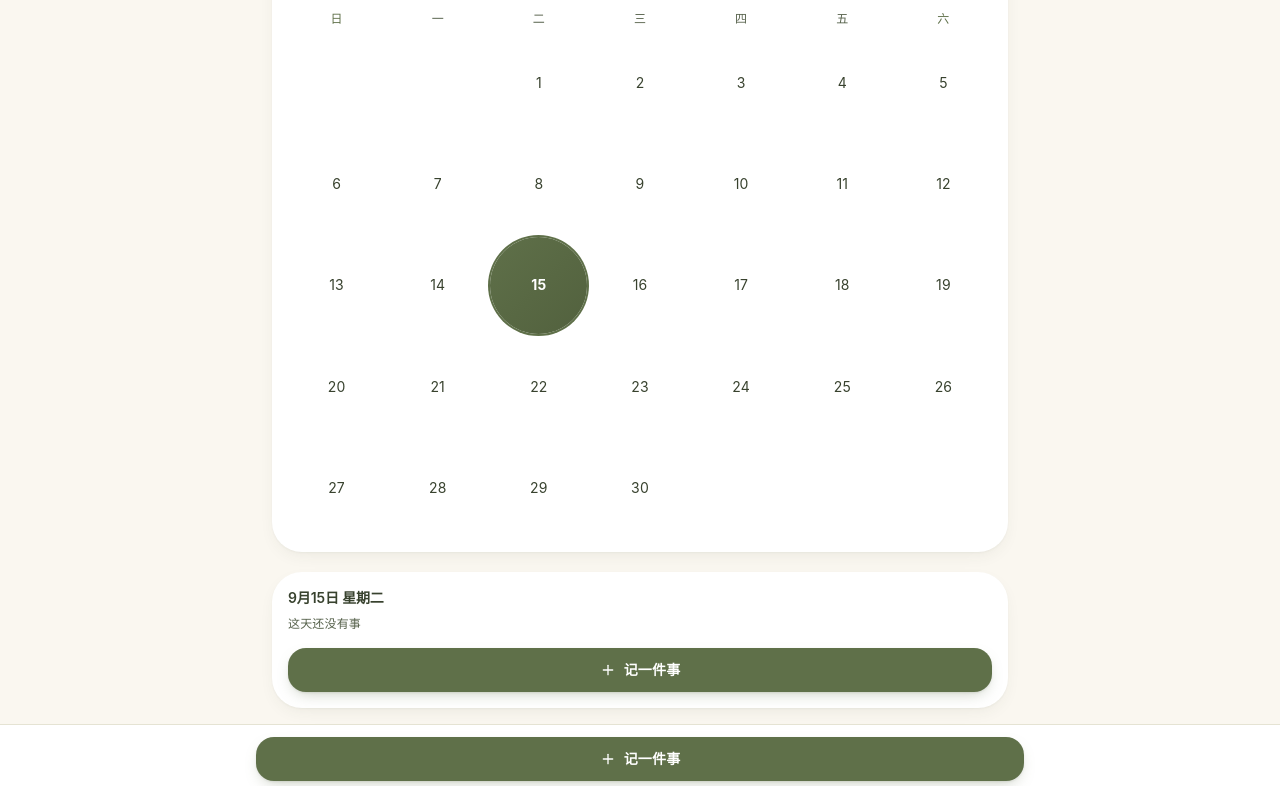
it: 这一天的面板 › 点某天后，「在这天记经期」和「记一件事」都带着这一天
The image size is (1280, 786).
(page scrolled)
Click the button named "9月20日": point(337, 387) [288, 338, 385, 435]
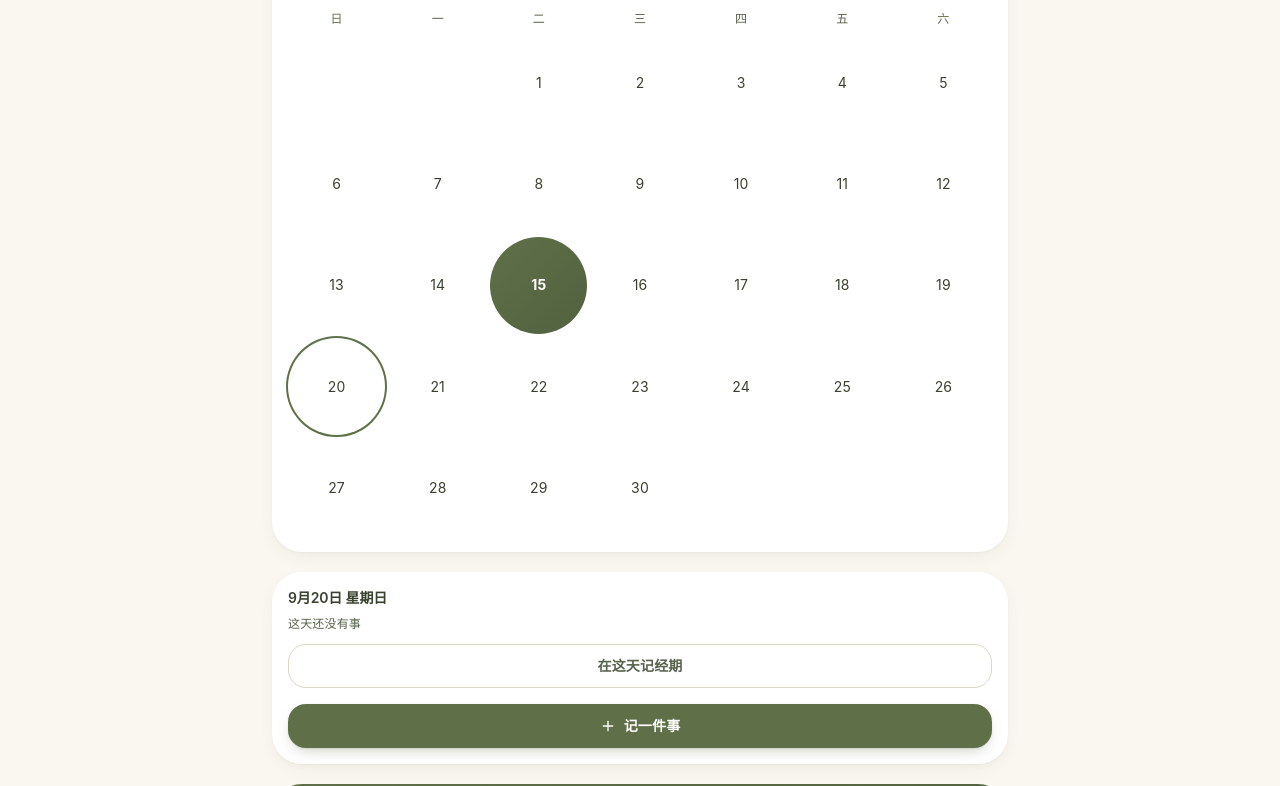
Click the button "在这天记经期": point(640, 666) [288, 644, 992, 688]
(page scrolled)
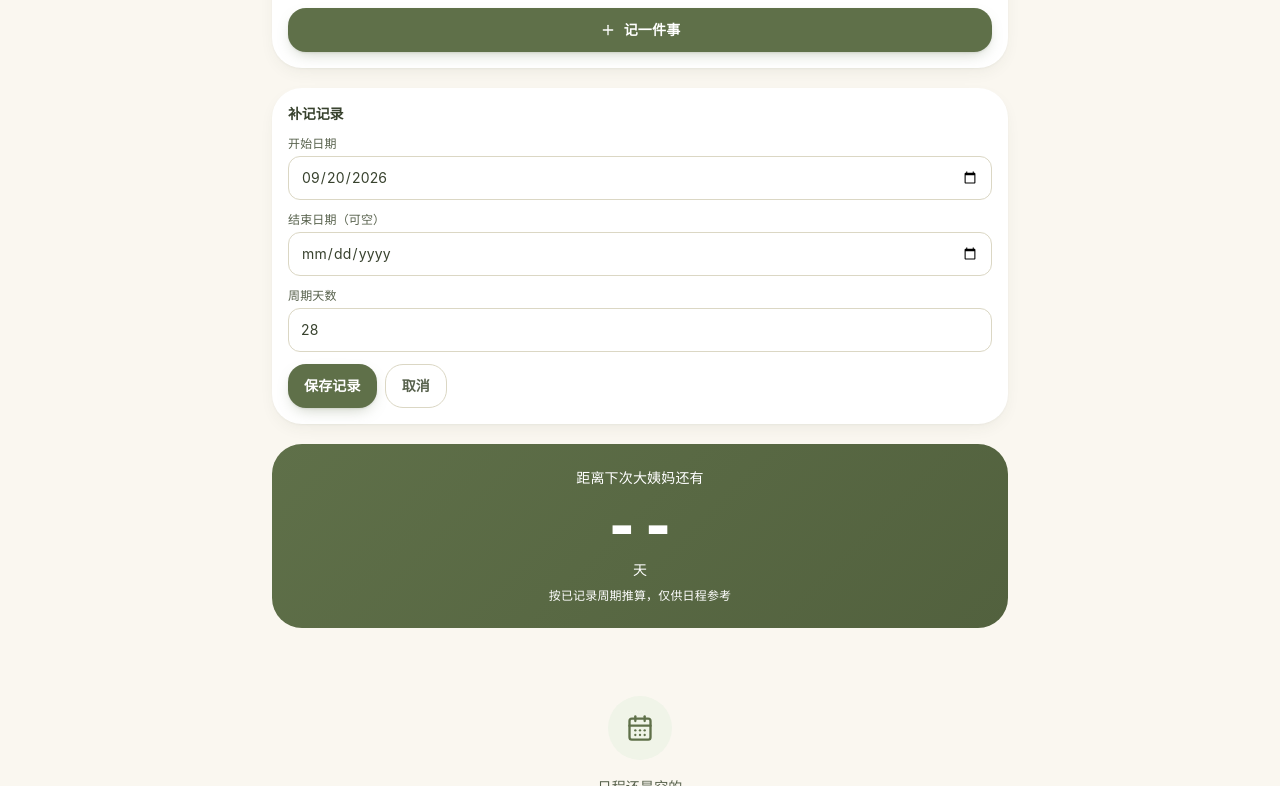
Result: the date field labelled "开始日期" holds "2026-09-20" at [288, 156, 992, 200]
Click the button "取消": point(416, 386) [385, 364, 447, 408]
(page scrolled)
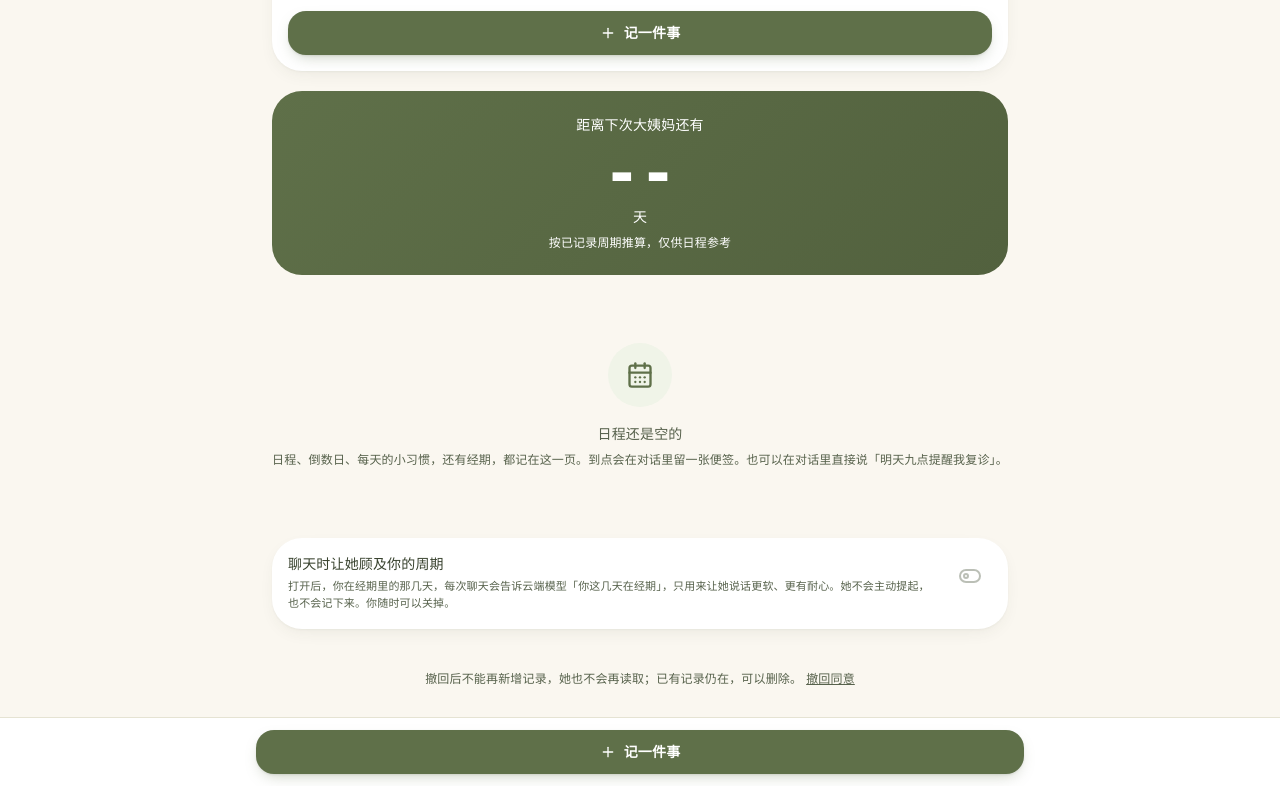
Click the button "记一件事" below "这天还没有事": point(640, 33) [288, 11, 992, 55]
(page scrolled)
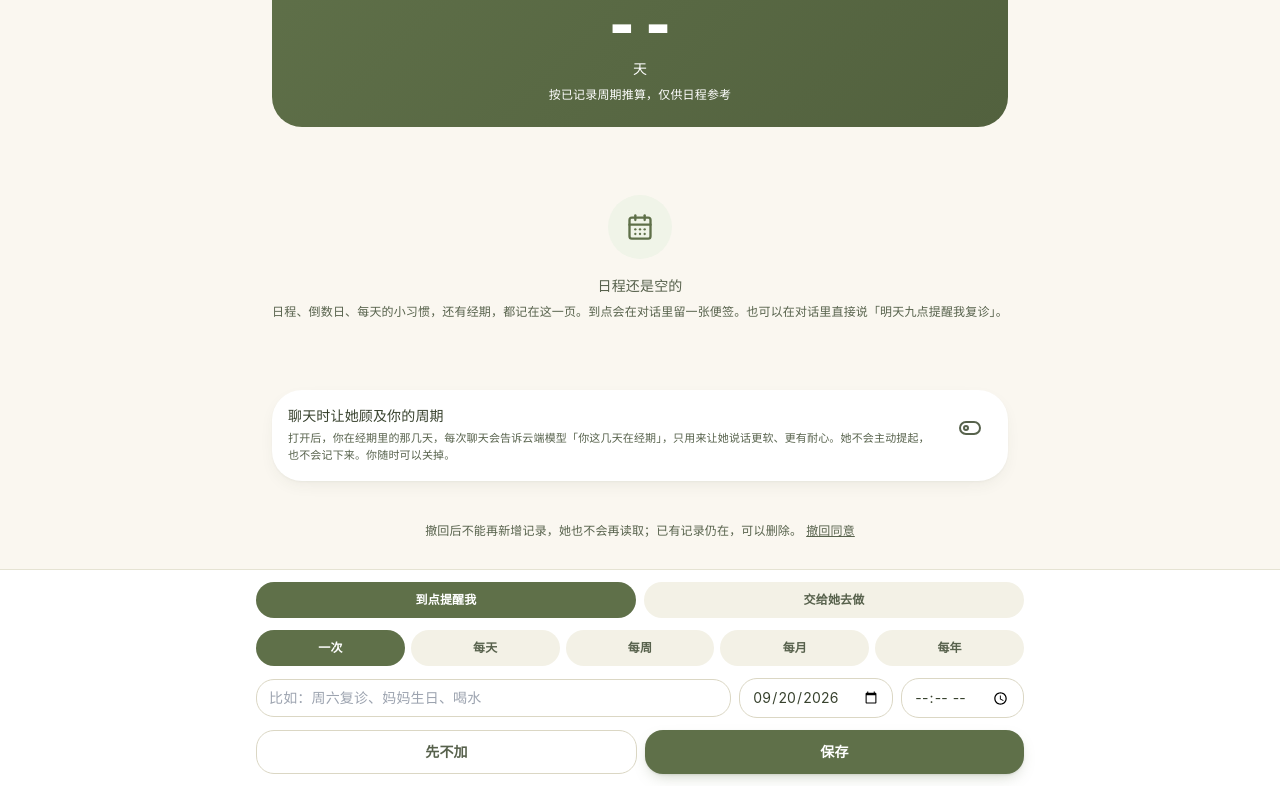
Result: the date field named "日期" holds "2026-09-20" at [739, 678, 893, 718]
